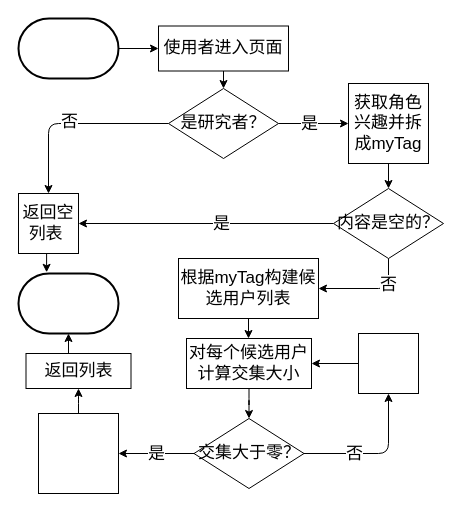
Image size: 461x511. Some labels were removed from this diagram. The shapes that lost their labels are listed below. From the top down, each one's centre as x and y in pixels, then its label:
At [68,48]: "开始".
At [68,303]: "结束".
At [388,363]: "跳过该用户".
At [78,453]: "按交集大小降序排序".
